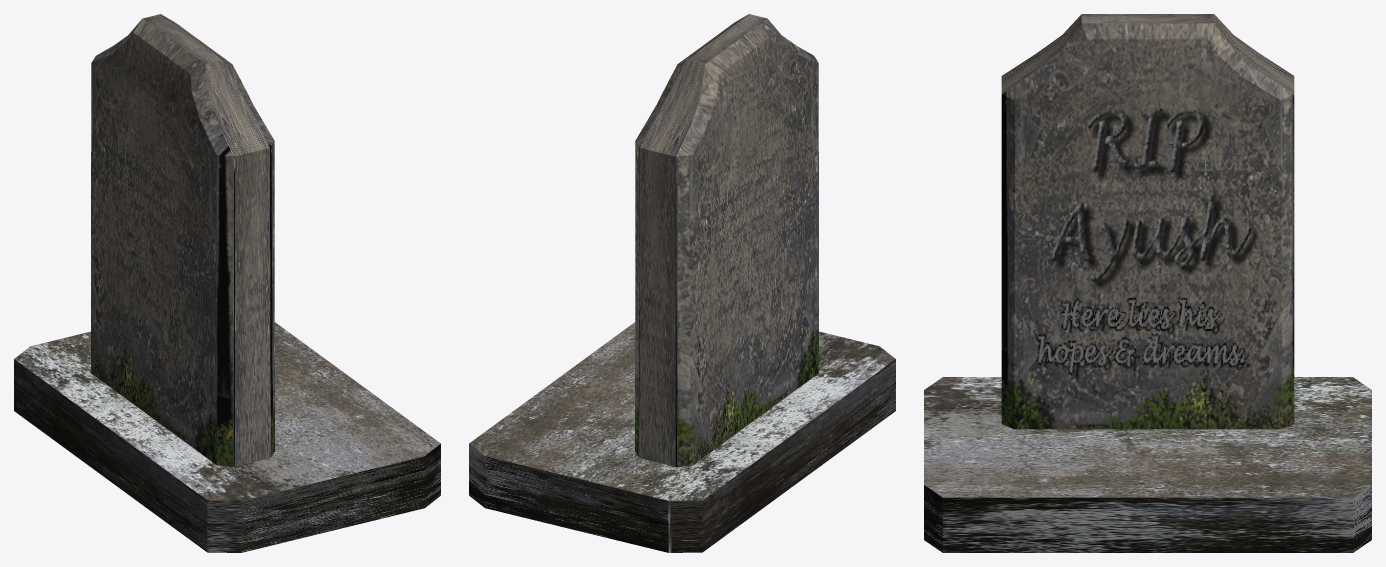
File: Gravestone_Ayush.fbx
The picture shows the model from 3 angles, left to right: view 1: azimuth 30°, elevation 25°; view 2: azimuth 150°, elevation 25°; view 3: azimuth 270°, elevation 25°; orthographic projection. The views are drawn at different scales.
Visible parts, largest first — view 1: pCube1; view 2: pCube1; view 3: pCube1.
Boxes of the visible parts, x1,y1,x2,y2 form: pCube1: [14, 14, 440, 552]; pCube1: [469, 14, 895, 552]; pCube1: [924, 14, 1371, 552].
Bounding box in the file's own units: 12.98 × 22.58 × 20.34.
1 material, 1 textured.
